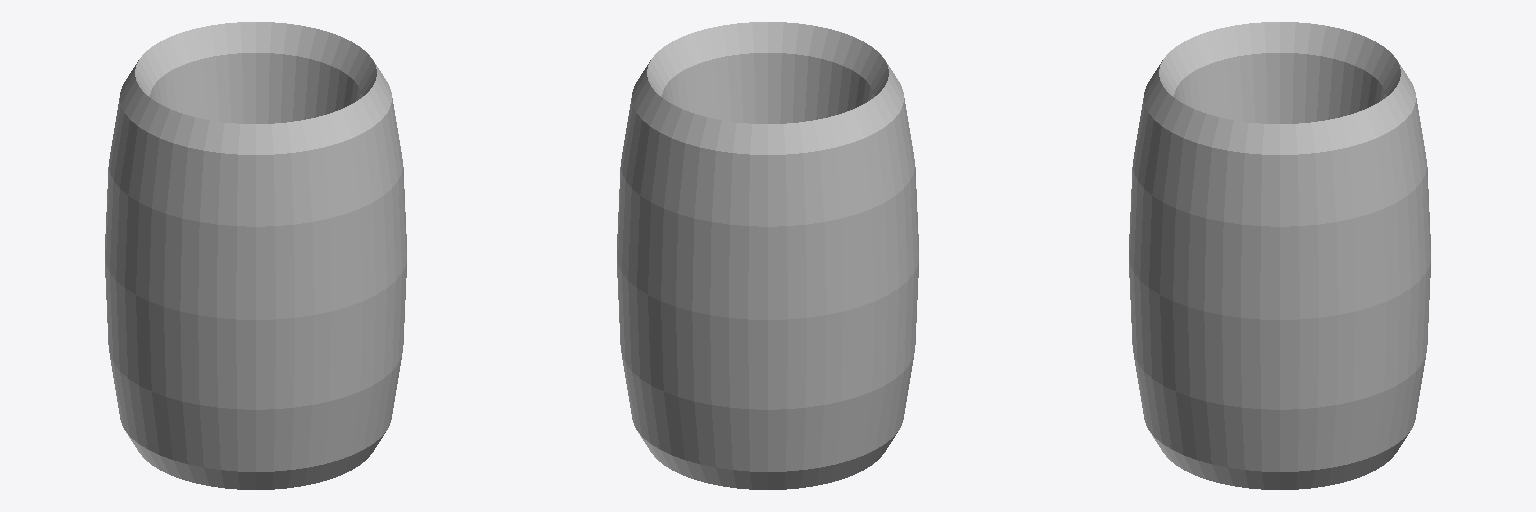
The model's file is barrel.obj.
The picture shows the model from 3 angles: view 1: azimuth 30°, elevation 25°; view 2: azimuth 150°, elevation 25°; view 3: azimuth 270°, elevation 25°; orthographic projection.
Parts seen in each view (by area): view 1: Torus; view 2: Torus; view 3: Torus.
Part boxes in pixels (x1,y1,x2,y2): Torus: (105, 22, 406, 489); Torus: (617, 22, 918, 489); Torus: (1129, 22, 1430, 489).
Size of the model in its own units: 2.5 by 3.33 by 2.5.